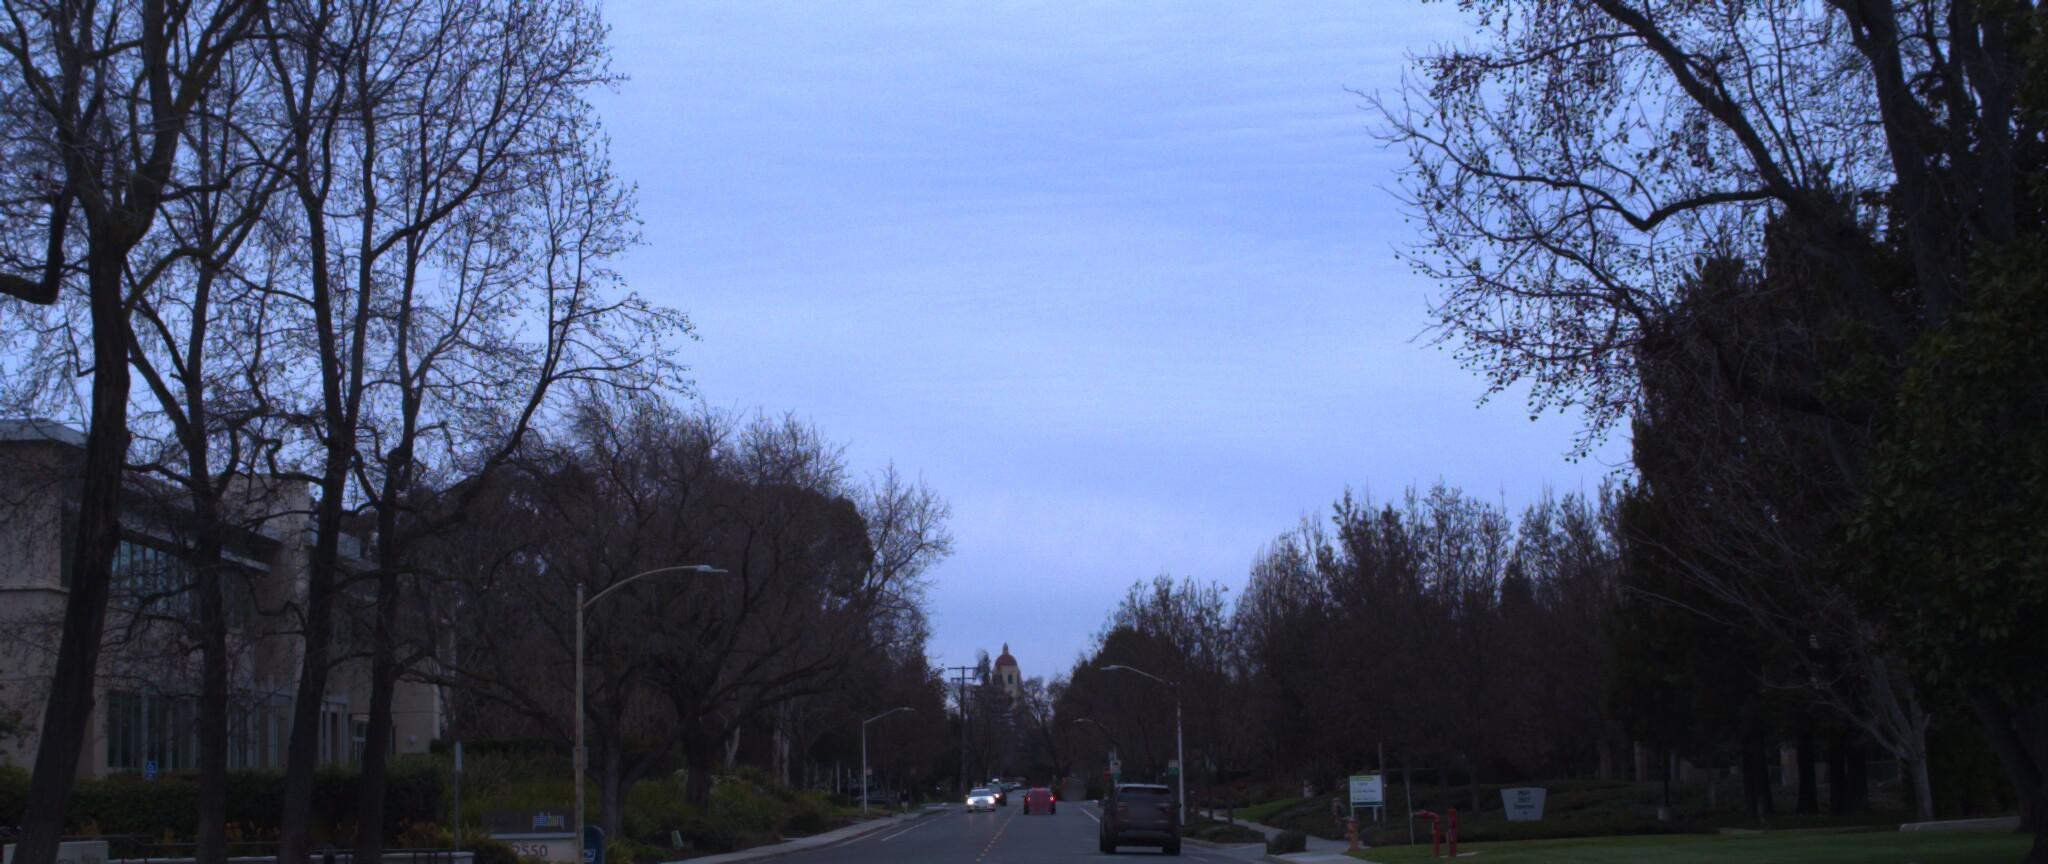car: (1095, 778, 1179, 855)
